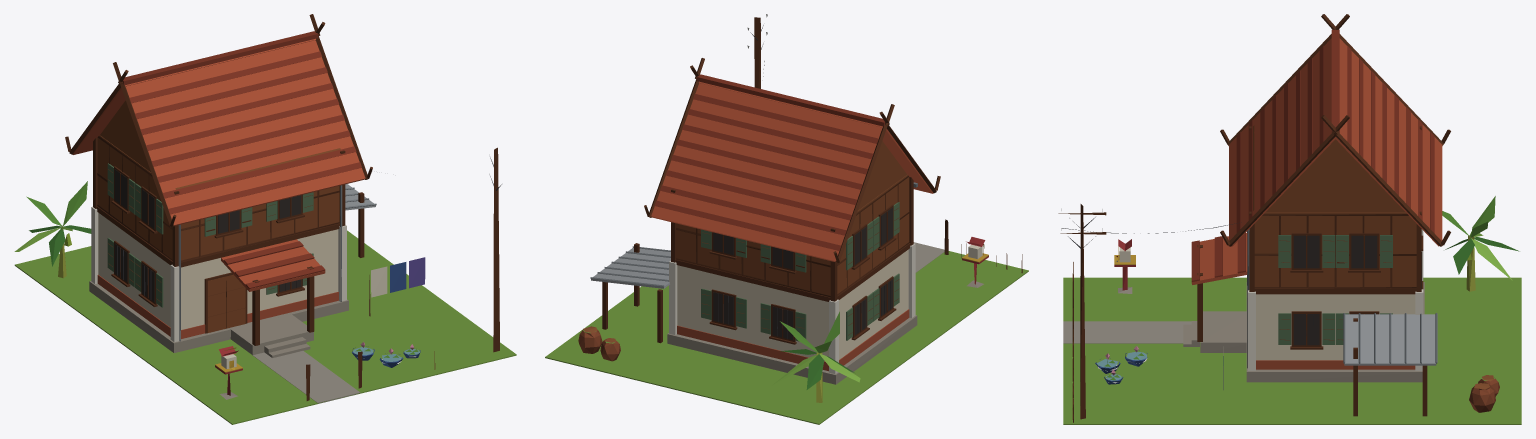
File: house12_1.glb
3 renders of one model, left to right at view 1: azimuth 30°, elevation 25°; view 2: azimuth 150°, elevation 25°; view 3: azimuth 270°, elevation 25°, orthographic. The views are drawn at different scales.
Visible parts, largest first — view 1: body, windows; view 2: body, windows; view 3: body, windows.
Part boxes in pixels (bbox=[...]): body: bbox=[14, 14, 516, 424]; windows: bbox=[114, 169, 301, 302]; body: bbox=[545, 14, 1028, 424]; windows: bbox=[713, 207, 892, 340]; body: bbox=[1058, 14, 1521, 424]; windows: bbox=[1293, 235, 1377, 345].
Size of the model in its own units: 12.89 by 10.49 by 16.1.
